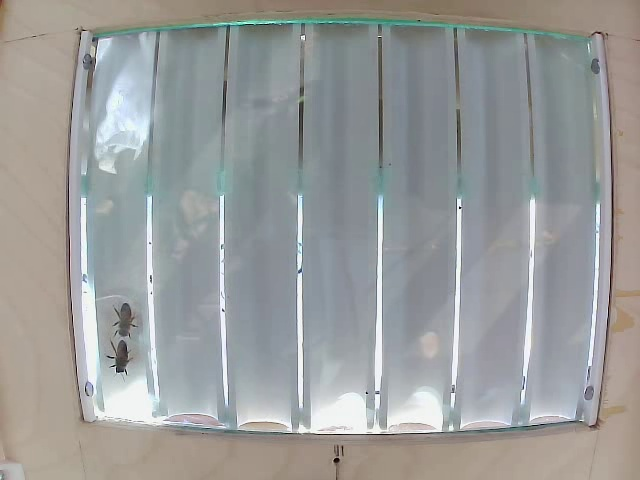bee: (111, 338, 140, 383), (109, 299, 139, 334)
